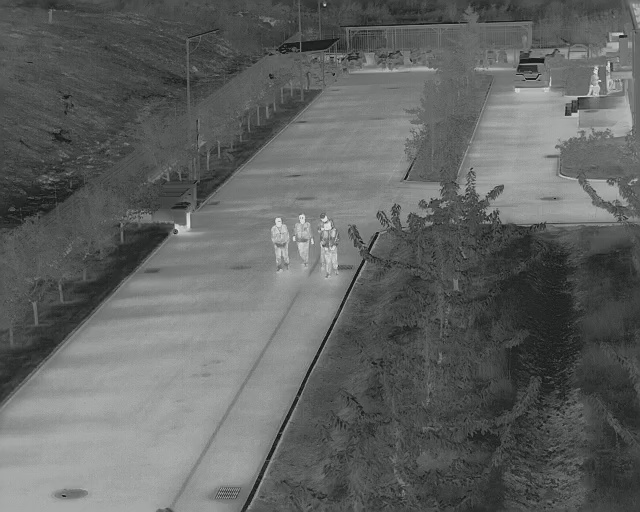person: (319, 214, 337, 276), (271, 219, 290, 270), (295, 213, 313, 266), (591, 67, 601, 98)
vehicle: (513, 58, 550, 92)
